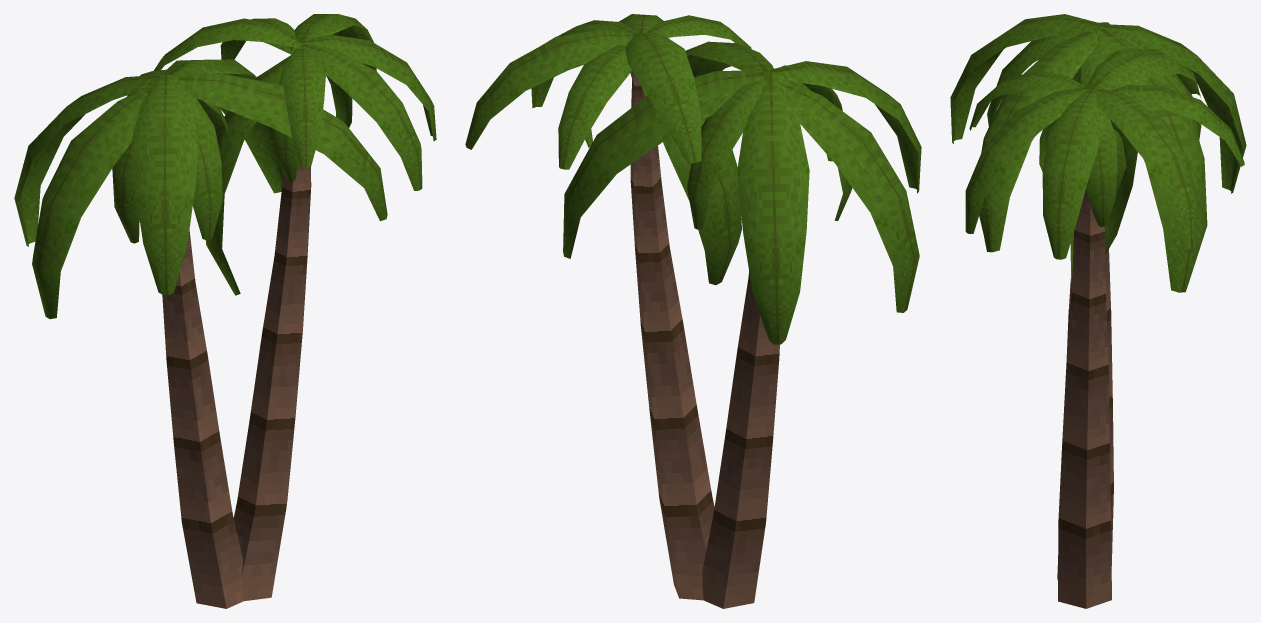
The model's file is palmtree02.fbx.
3 renders of one model, left to right at view 1: azimuth 30°, elevation 25°; view 2: azimuth 150°, elevation 25°; view 3: azimuth 270°, elevation 25°, orthographic. The views are drawn at different scales.
Visible parts, largest first — view 1: pTrunk, pTrunk1, pLeaves14, pLeaves1, pLeaves11, pLeaves22, pLeaves13, pLeaves15, pLeaves8, pLeaves19, pLeaves12, pLeaves20 (+6 smaller); view 2: pTrunk, pTrunk1, pLeaves13, pLeaves1, pLeaves12, pLeaves21, pLeaves23, pLeaves19, pLeaves17, pLeaves7, pLeaves14, pLeaves11 (+2 smaller); view 3: pTrunk, pLeaves20, pLeaves23, pLeaves12, pLeaves11, pLeaves22, pLeaves13, pLeaves14, pLeaves21, pLeaves17, pLeaves18, pLeaves15 (+5 smaller).
Boxes of the visible parts, bbox=[...] form: pTrunk: bbox=[233, 160, 311, 601]; pTrunk1: bbox=[162, 230, 243, 608]; pLeaves14: bbox=[131, 75, 199, 294]; pLeaves1: bbox=[32, 87, 151, 318]; pLeaves11: bbox=[178, 73, 387, 221]; pLeaves22: bbox=[294, 44, 422, 190]; pLeaves13: bbox=[14, 74, 170, 246]; pLeaves15: bbox=[282, 48, 325, 167]; pLeaves8: bbox=[177, 83, 222, 240]; pLeaves19: bbox=[205, 55, 290, 295]; pLeaves12: bbox=[163, 59, 283, 193]; pLeaves20: bbox=[300, 35, 436, 141]; pTrunk: bbox=[630, 70, 714, 600]; pTrunk1: bbox=[702, 271, 779, 608]; pLeaves13: bbox=[737, 72, 809, 344]; pLeaves1: bbox=[785, 83, 919, 312]; pLeaves12: bbox=[563, 70, 771, 258]; pLeaves21: bbox=[625, 31, 701, 164]; pLeaves23: bbox=[465, 29, 632, 149]; pLeaves19: bbox=[641, 85, 741, 285]; pLeaves17: bbox=[558, 45, 631, 169]; pLeaves7: bbox=[687, 79, 767, 229]; pLeaves14: bbox=[769, 61, 921, 193]; pLeaves11: bbox=[685, 41, 773, 77]; pTrunk: bbox=[1058, 188, 1111, 608]; pLeaves20: bbox=[1042, 87, 1104, 259]; pLeaves23: bbox=[1092, 89, 1198, 249]; pLeaves12: bbox=[1086, 25, 1207, 292]; pLeaves11: bbox=[979, 32, 1097, 252]; pLeaves22: bbox=[965, 86, 1088, 233]; pLeaves13: bbox=[1098, 24, 1246, 193]; pLeaves14: bbox=[950, 14, 1104, 143]; pLeaves21: bbox=[1086, 49, 1200, 97]; pLeaves17: bbox=[1111, 85, 1244, 166]; pLeaves18: bbox=[1086, 114, 1117, 226]; pLeaves15: bbox=[969, 70, 1085, 130].
Bounding box in the file's own units: 3.62 × 4.88 × 2.37.
1 material, 1 textured.
